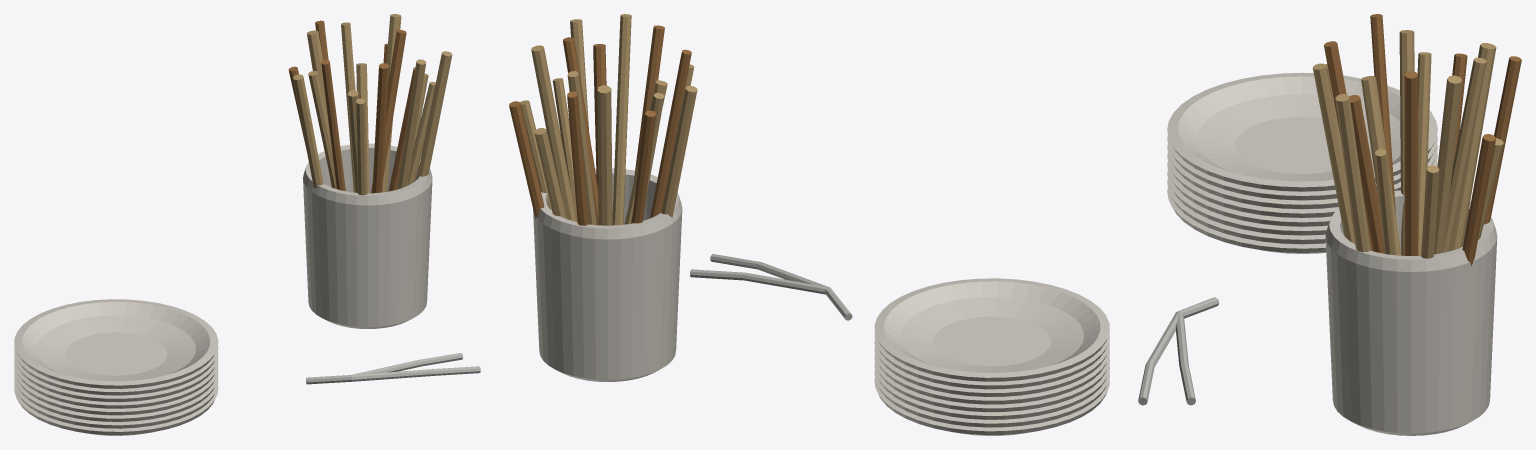
The model's file is plates.glb.
3 views of the same model, side by side, from view 1: azimuth 30°, elevation 25°; view 2: azimuth 150°, elevation 25°; view 3: azimuth 270°, elevation 25° (orthographic). The views are drawn at different scales.
Parts seen in each view (by area): view 1: plates; view 2: plates; view 3: plates.
Part boxes in pixels (x1=…): plates: x1=14, y1=14, x2=480, y2=435; plates: x1=509, y1=14, x2=1109, y2=435; plates: x1=1138, y1=14, x2=1521, y2=435.
Bounding box in the file's own units: 0.5687 × 0.3258 × 0.3173.
